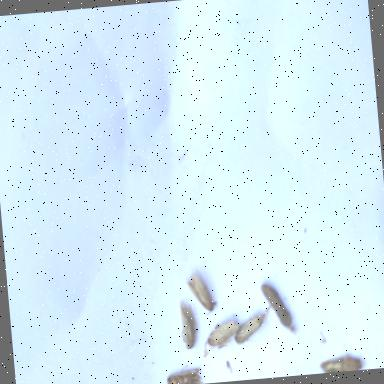pbw: (231, 305, 274, 347), (186, 270, 216, 324), (202, 320, 241, 360), (178, 299, 198, 351), (319, 352, 363, 374), (165, 364, 204, 384)
